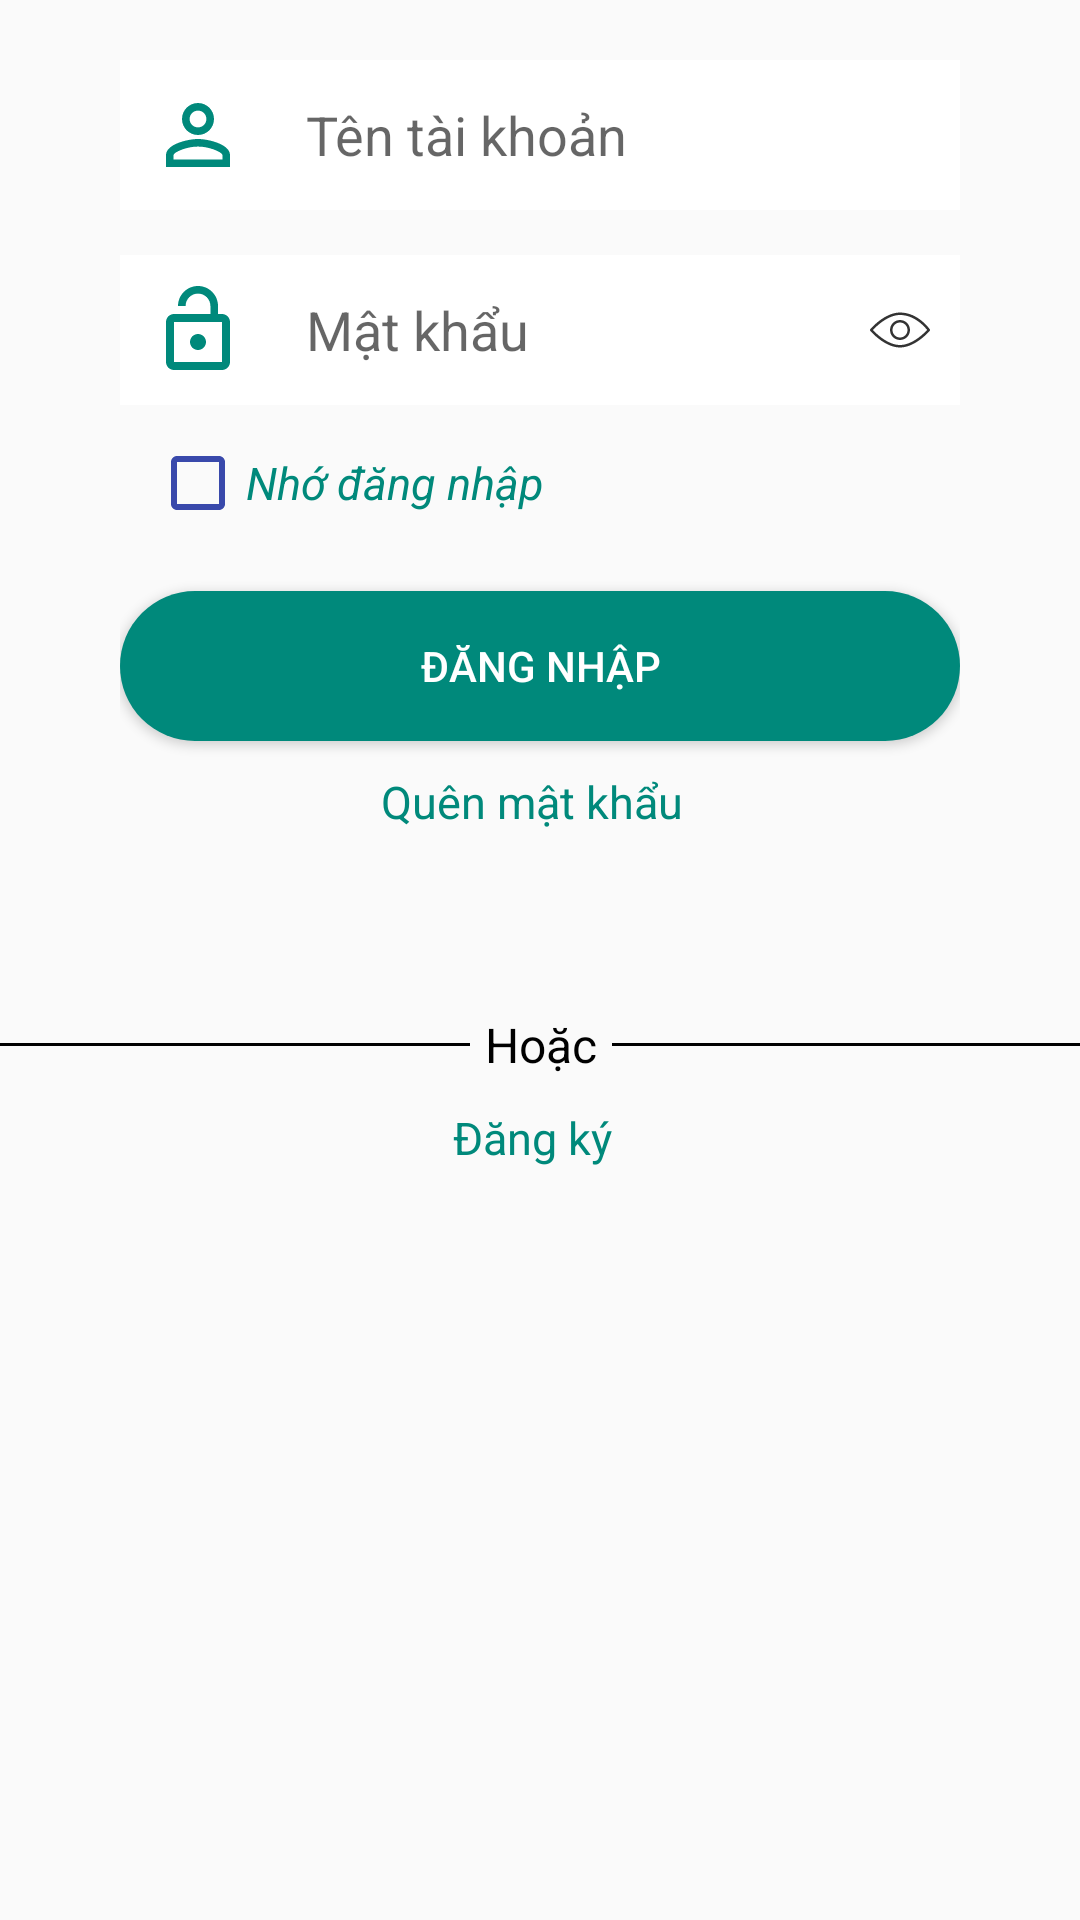

Where icons sit on this 1080 x 1920 app screen, as [left=x1, top=y1, right=x2, bottom=y2]:
eye: [left=870, top=312, right=930, bottom=348]
open: [left=166, top=286, right=230, bottom=370]
user: [left=166, top=103, right=230, bottom=167]
